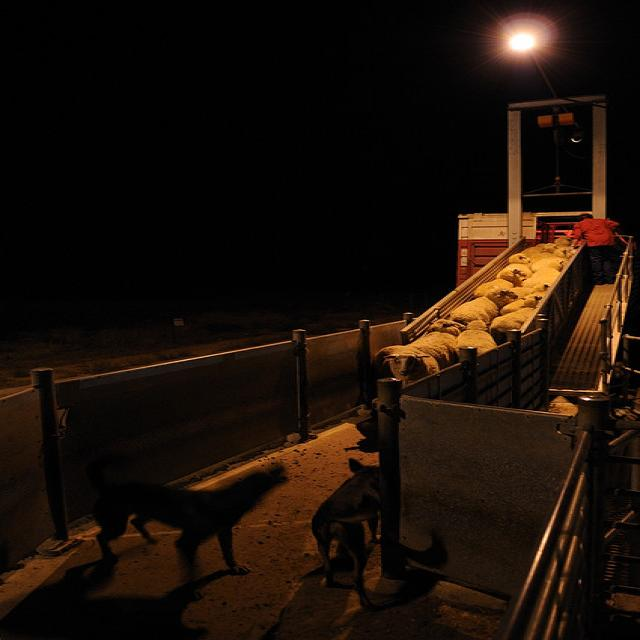Dog: (60, 458, 393, 616)
